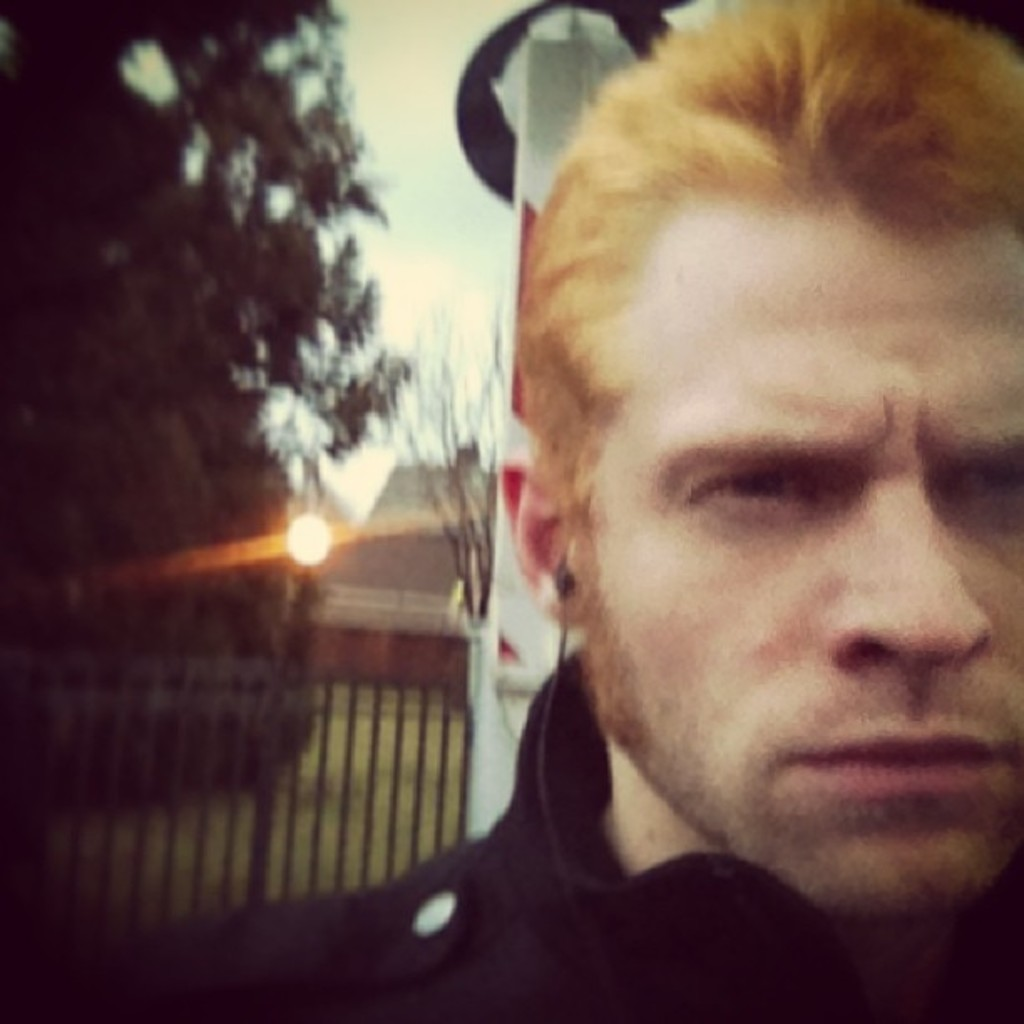Tree: (25, 0, 451, 804)
